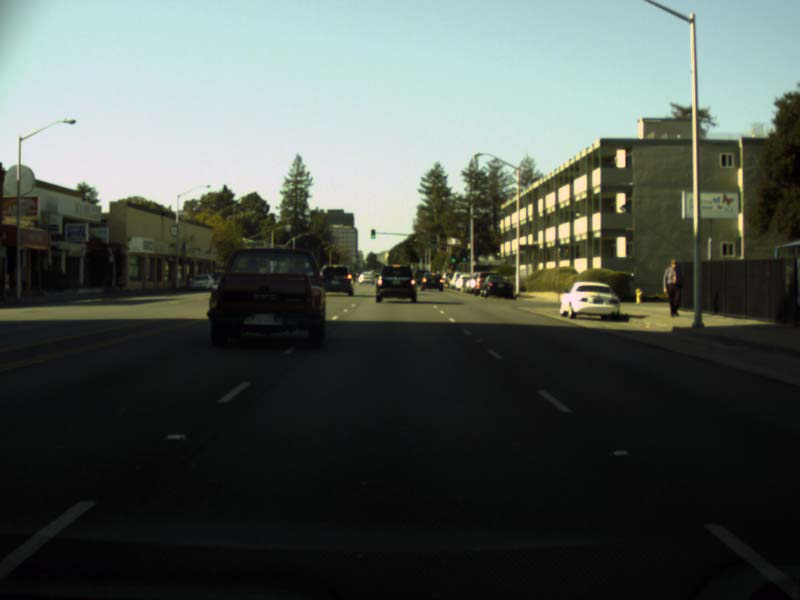Green: (450, 253, 456, 263), (370, 228, 375, 238), (461, 254, 466, 262)
